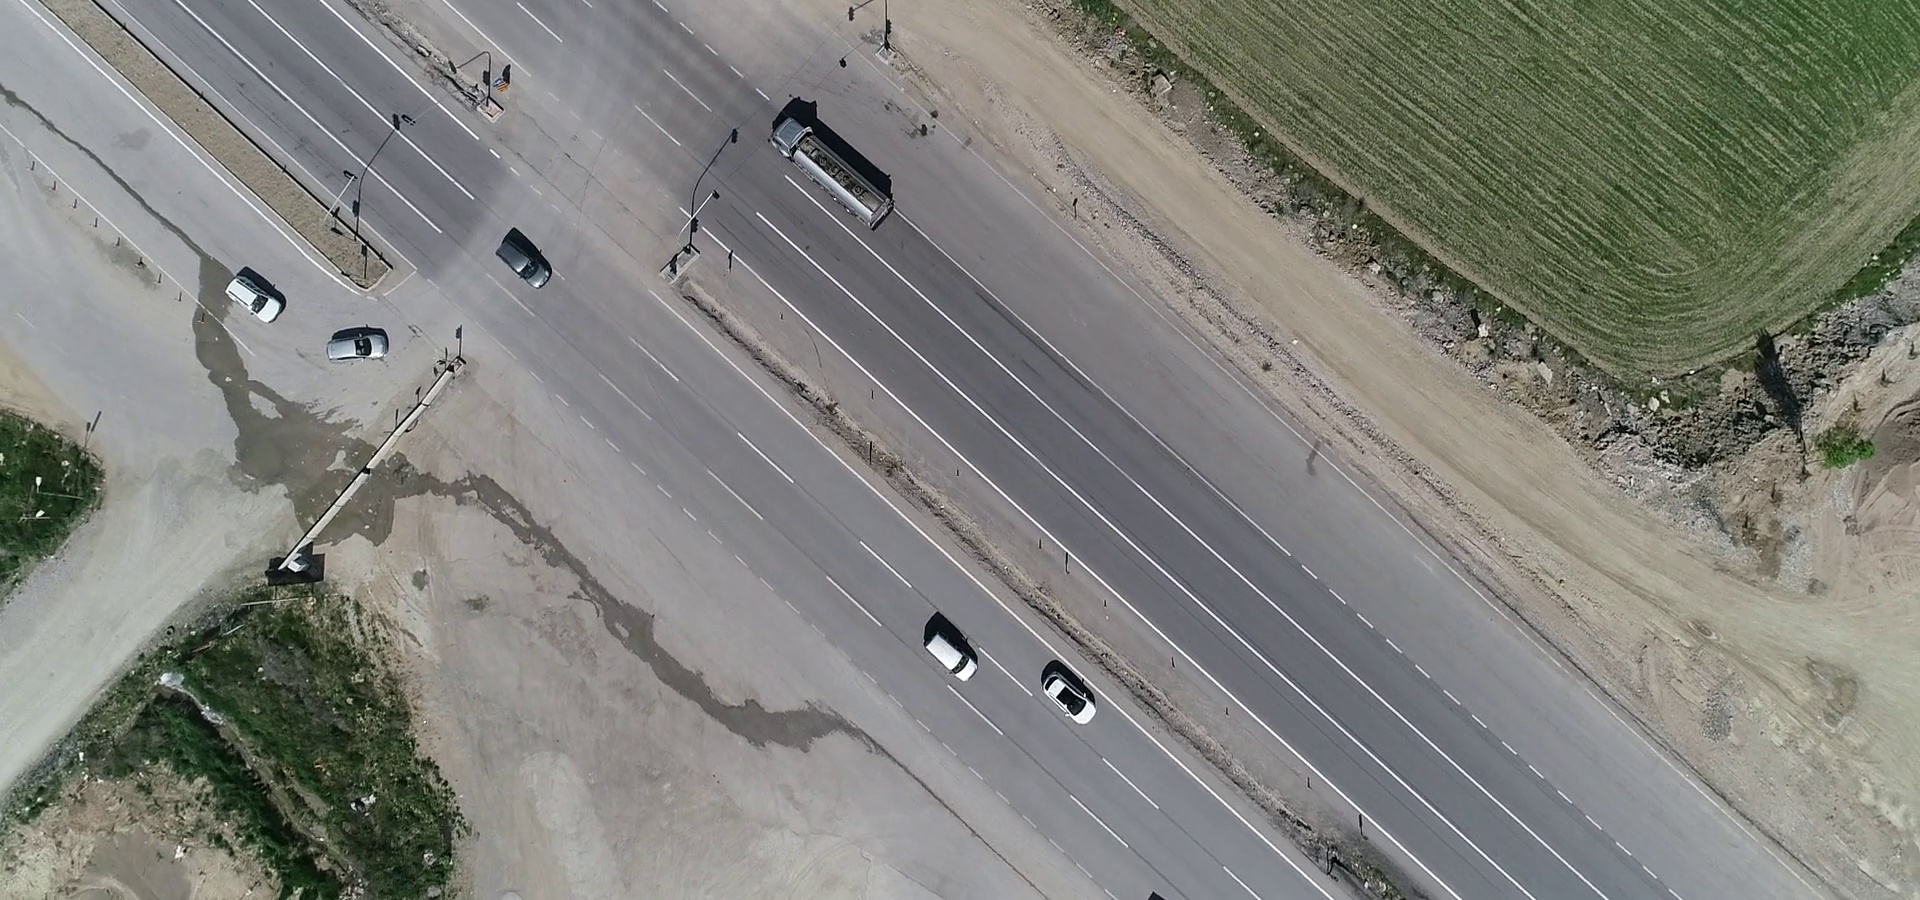arac: (751, 110, 900, 238), (219, 260, 291, 331), (920, 620, 980, 691), (320, 322, 400, 372), (1041, 665, 1100, 731), (493, 233, 555, 291)
